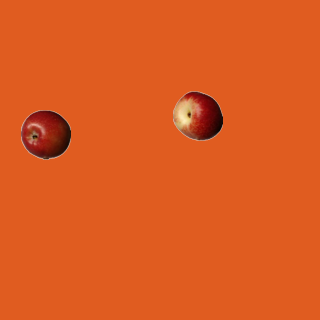Apple Braeburn: (20, 109, 70, 159)
Nectarine: (172, 90, 222, 140)
